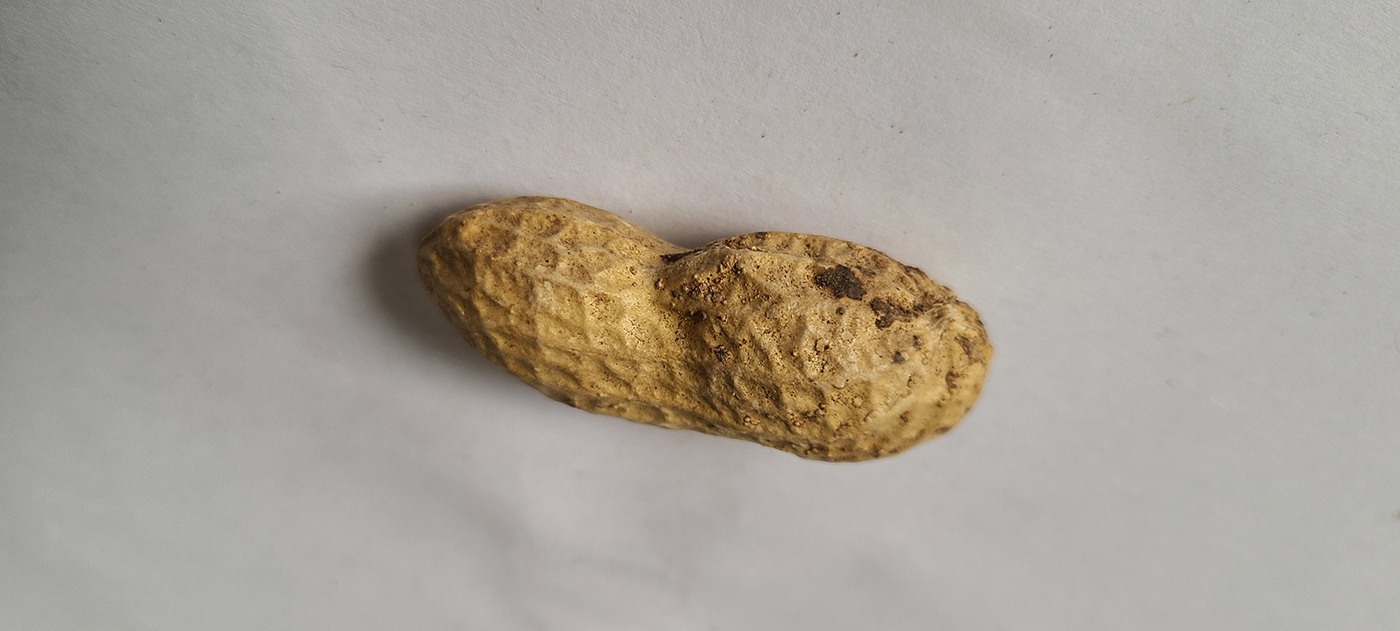h: (413, 192, 995, 464)
